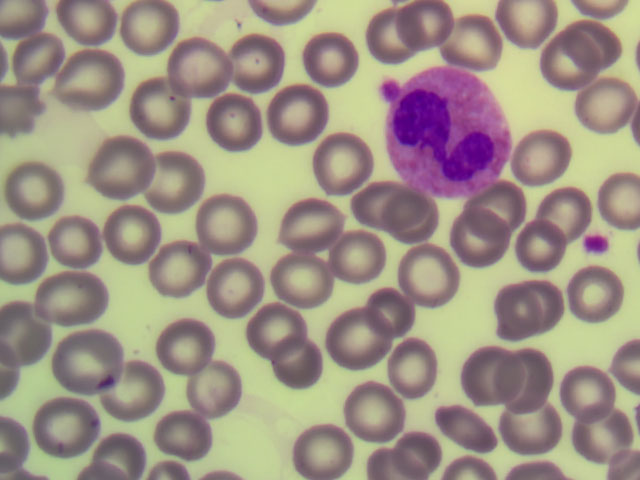Platelets: (580, 227, 610, 260)
RBC: (121, 74, 188, 135), (165, 31, 232, 92), (195, 96, 262, 157), (219, 24, 286, 85), (261, 84, 328, 145), (295, 28, 362, 89), (307, 131, 374, 192), (278, 194, 345, 255), (320, 226, 387, 287), (269, 248, 336, 309), (245, 295, 312, 356), (263, 334, 330, 395), (205, 262, 272, 323), (195, 192, 262, 253), (154, 241, 221, 302), (142, 156, 209, 217), (88, 134, 155, 195), (98, 208, 165, 269), (44, 210, 111, 271), (40, 264, 107, 325), (1, 216, 68, 277), (5, 155, 72, 216), (55, 334, 122, 395), (36, 398, 103, 459), (100, 360, 167, 421), (145, 318, 212, 379), (181, 349, 248, 410), (152, 401, 219, 462), (288, 419, 355, 480), (339, 380, 406, 441), (379, 337, 446, 398), (321, 302, 388, 363), (368, 270, 435, 331), (400, 246, 467, 307), (361, 184, 428, 245), (454, 216, 521, 277), (463, 183, 530, 244), (510, 117, 577, 178), (525, 32, 592, 93), (573, 72, 640, 133), (441, 21, 508, 82), (373, 6, 440, 67), (564, 264, 631, 325), (495, 284, 562, 345), (510, 217, 577, 278), (526, 172, 593, 233), (573, 164, 640, 225), (554, 367, 621, 428), (502, 392, 569, 453), (493, 365, 560, 426), (433, 391, 500, 452), (394, 419, 461, 480), (573, 419, 640, 480), (116, 1, 183, 61), (14, 33, 66, 81), (61, 51, 113, 99), (1, 78, 44, 132)
WBC: (388, 68, 511, 202)
